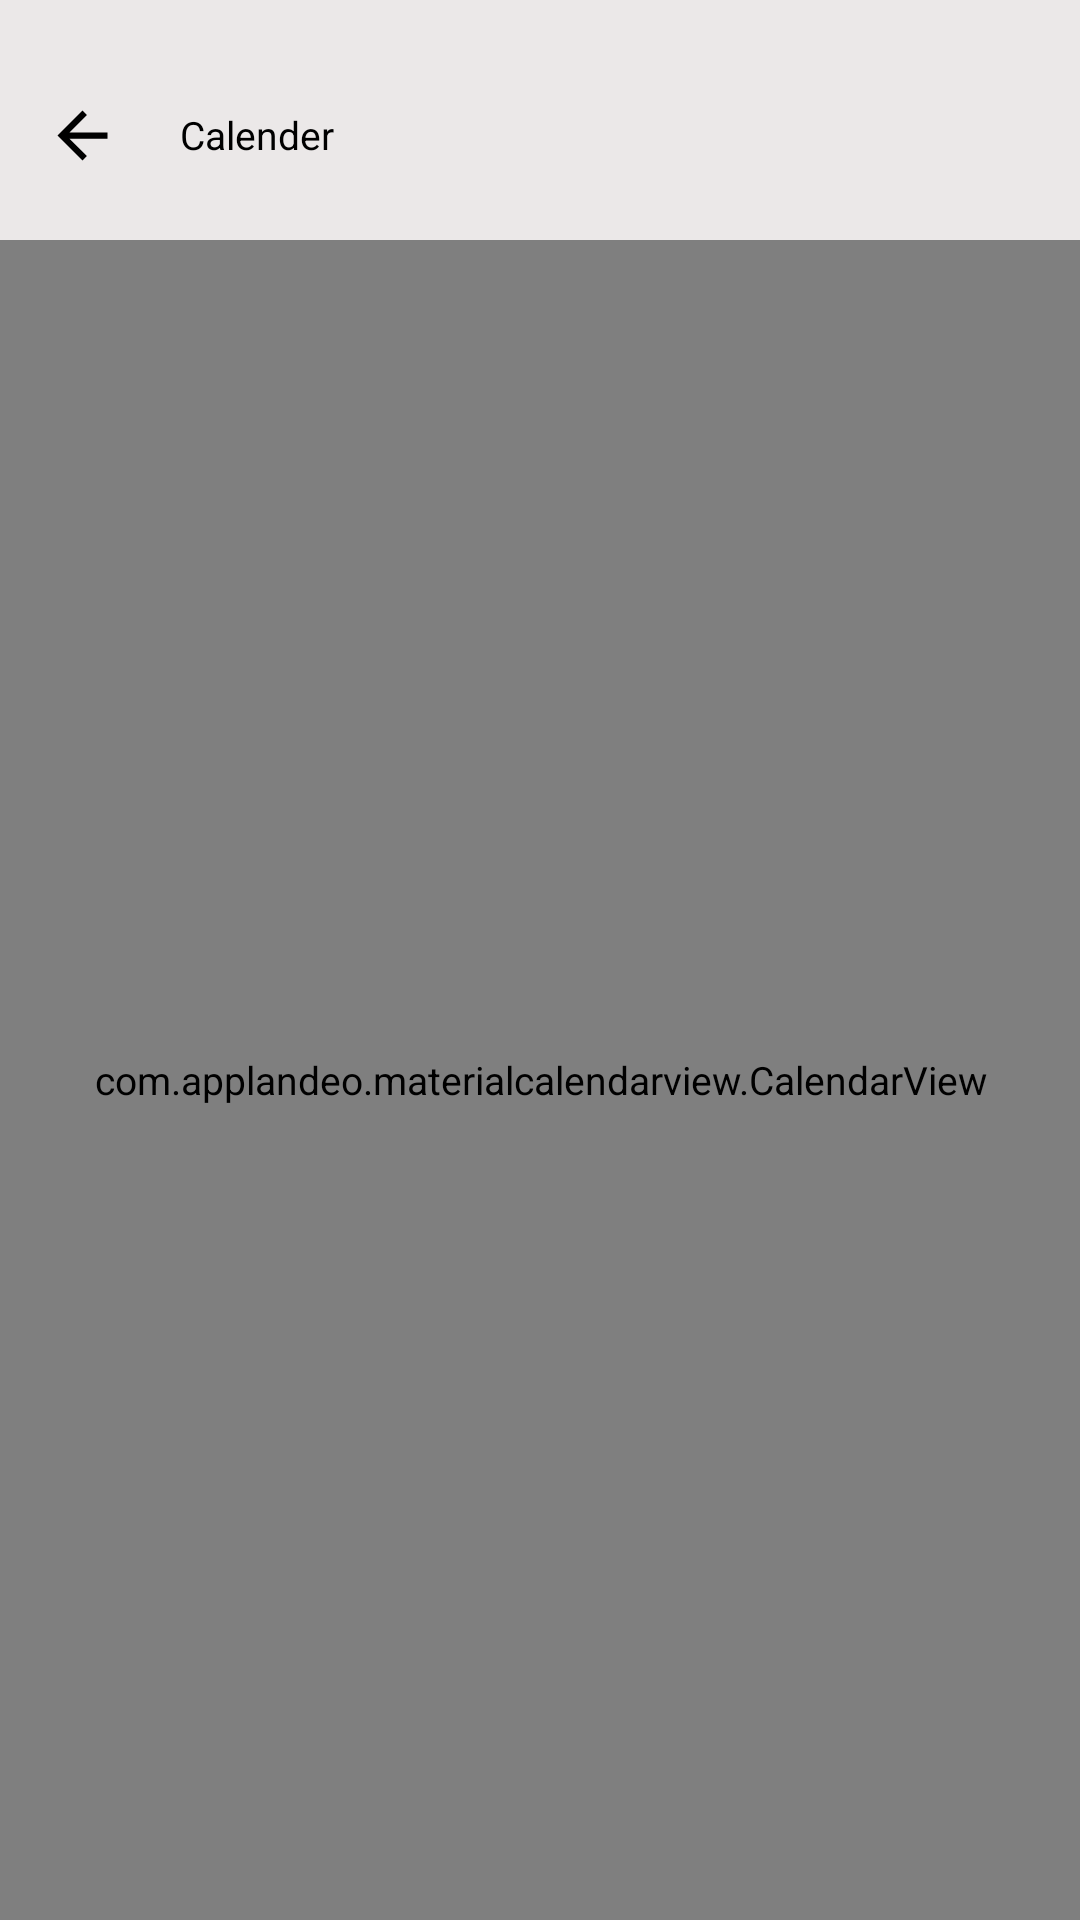

Where icons sit on this 1080x1920 app screen, as detection(x1, y1, x2, y2):
back: detection(57, 110, 108, 161)
